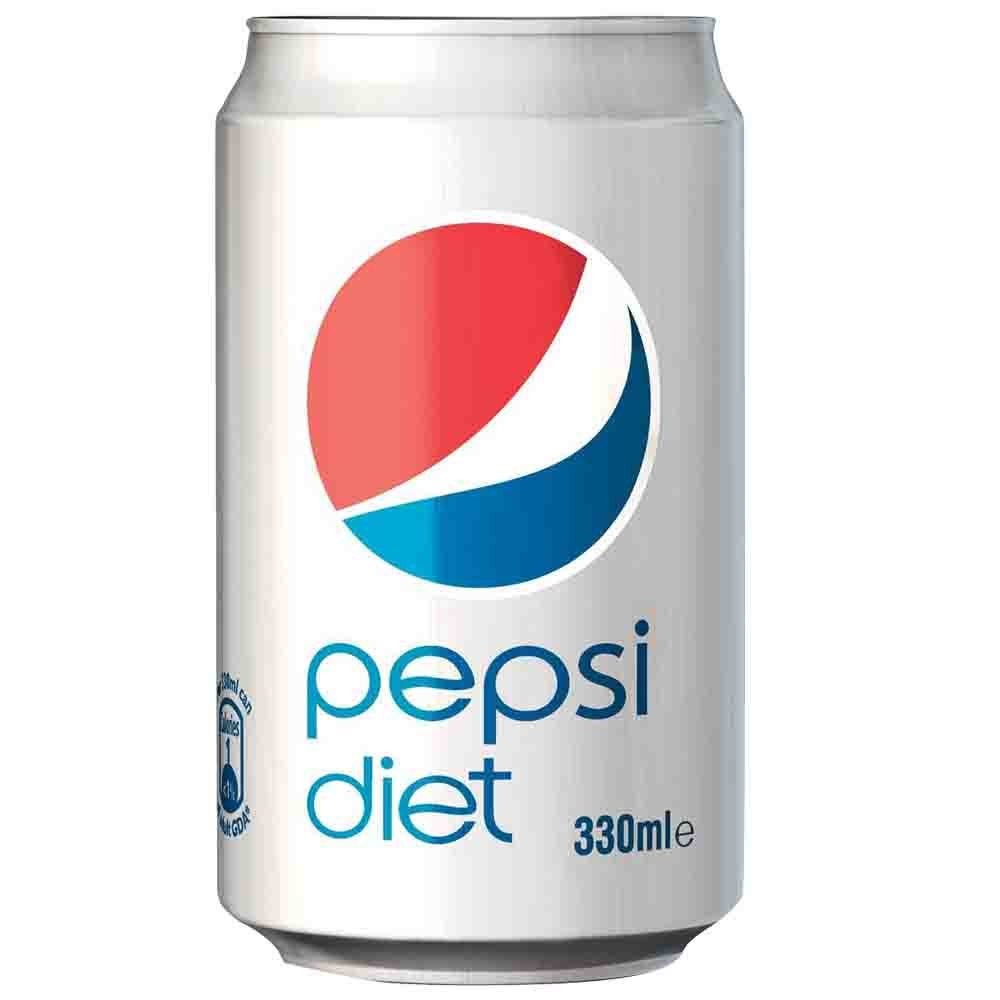pepsi_can: (214, 11, 747, 988)
